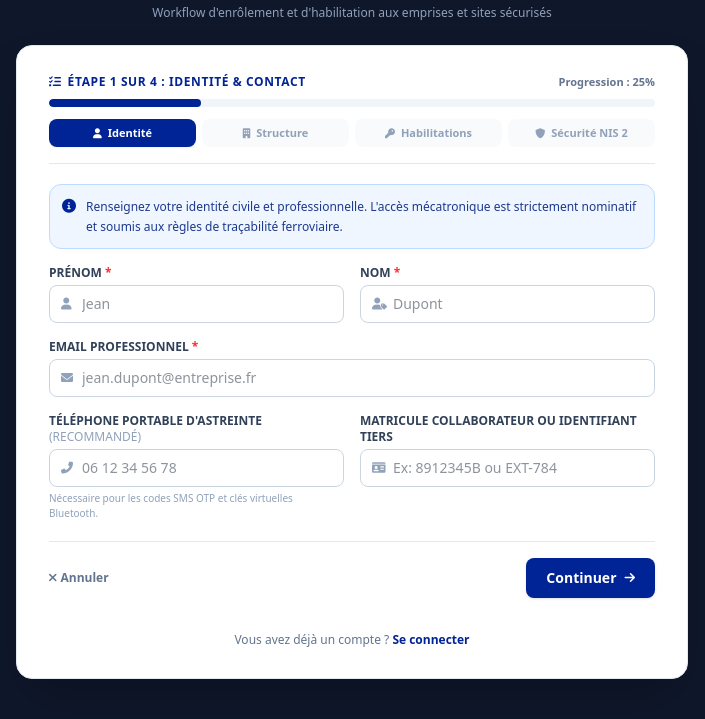
Test: Workflow d'Auto-Inscription & Habilitation Mécatronique (Register.tsx) › bloque le passage à l'étape 2 si l'identité n'est pas renseignée
(page scrolled)
Click the button "Continuer".
click(591, 578)  # box [526,558,655,598]
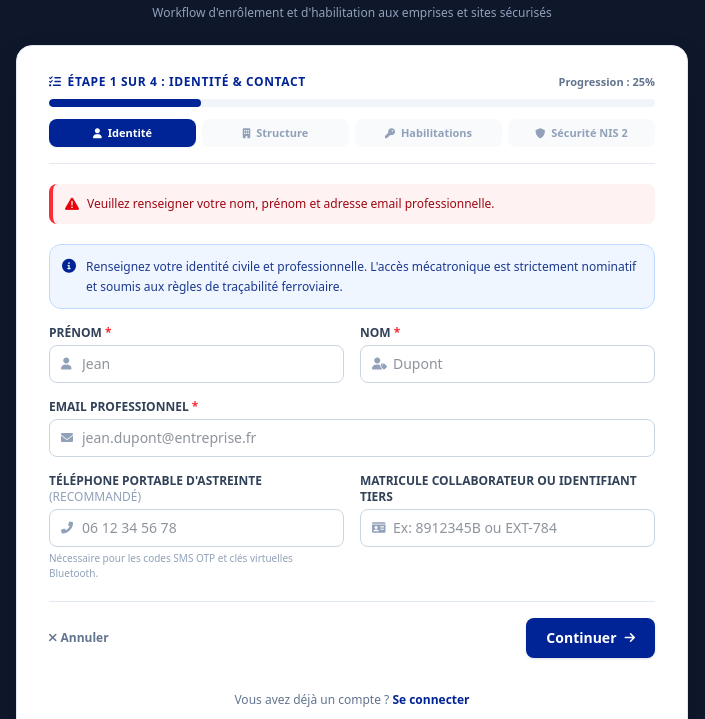
Result: the text "Veuillez renseigner votre nom, prénom et adresse email professionnelle" is shown at [87,195,494,212]
